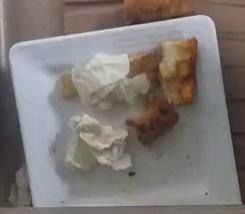pizza_crust: (126, 38, 197, 146)
